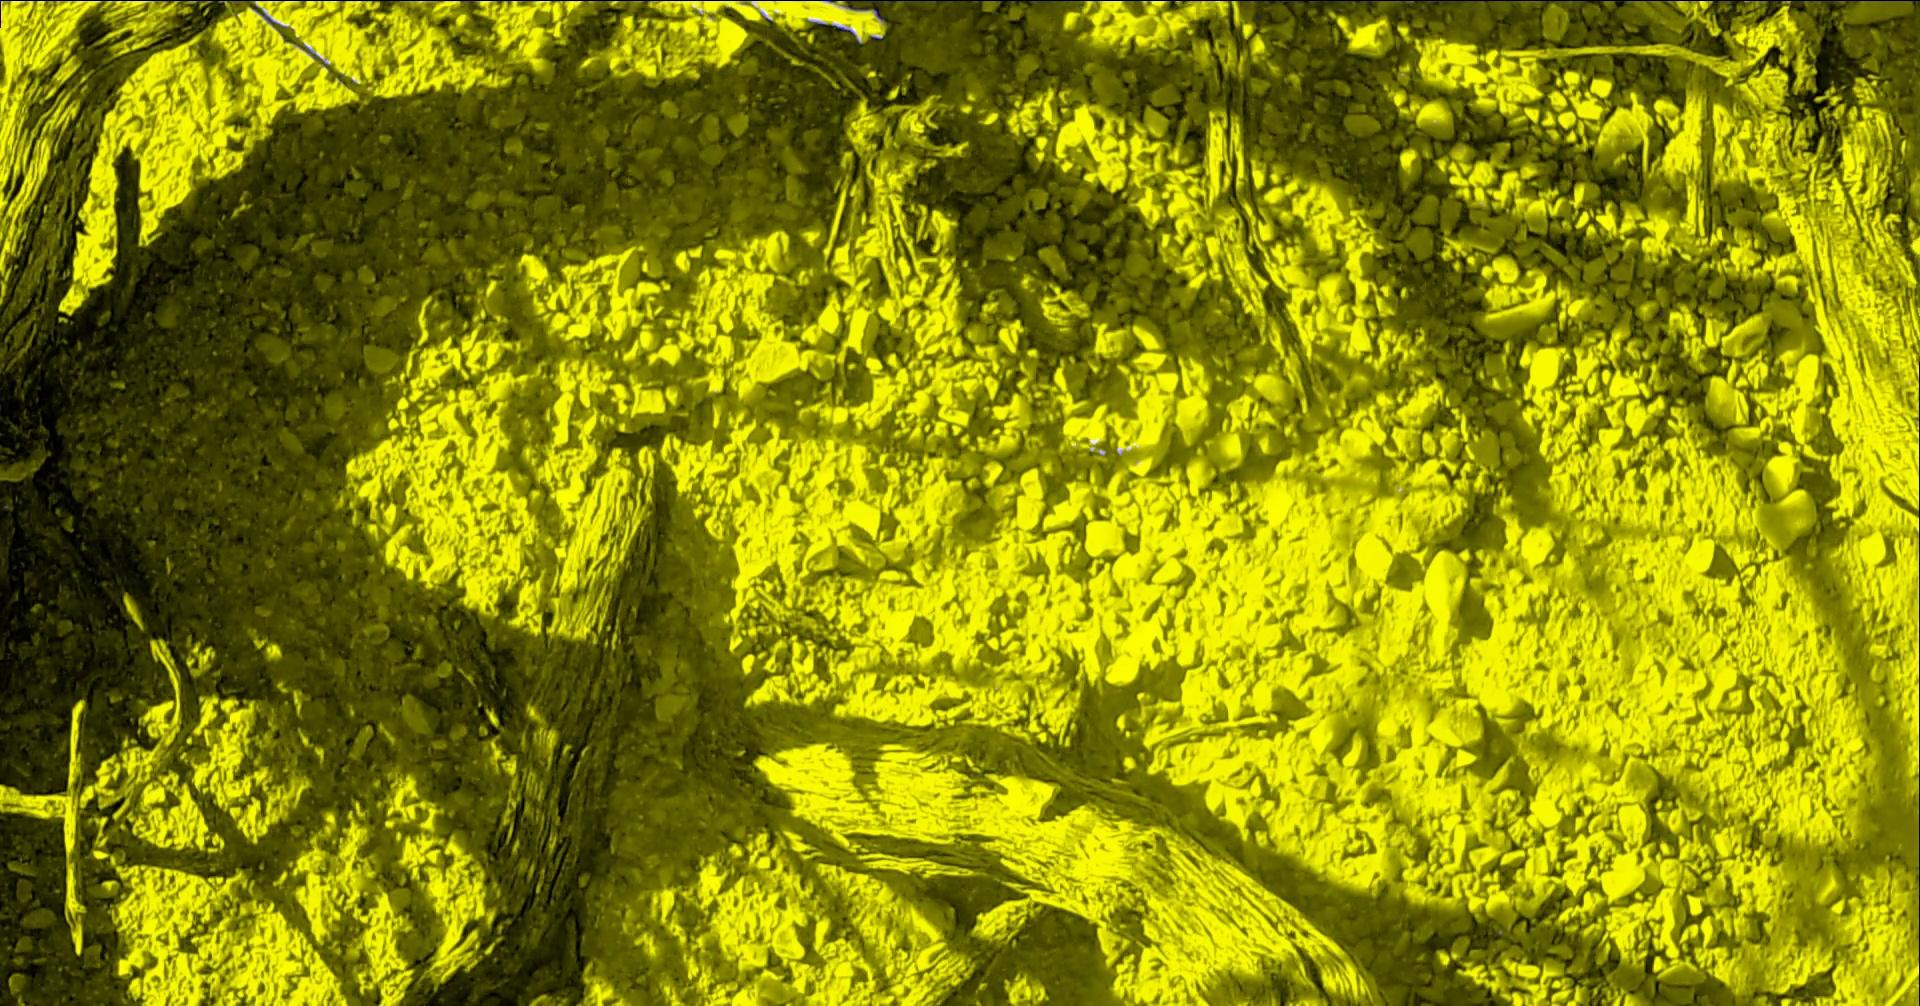ant: (251, 4, 282, 25), (844, 0, 890, 9), (1423, 0, 1530, 1), (1790, 0, 1859, 1), (1029, 0, 1083, 1), (1361, 0, 1415, 1), (1868, 0, 1919, 1), (1535, 0, 1585, 1)
